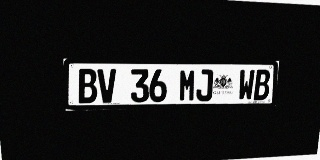3: (131, 69, 149, 102)
6: (149, 69, 167, 102)
B: (77, 69, 98, 103), (253, 69, 271, 100)
J: (196, 69, 213, 101)
M: (179, 69, 196, 101)
V: (97, 69, 117, 103)
W: (238, 69, 255, 100)
